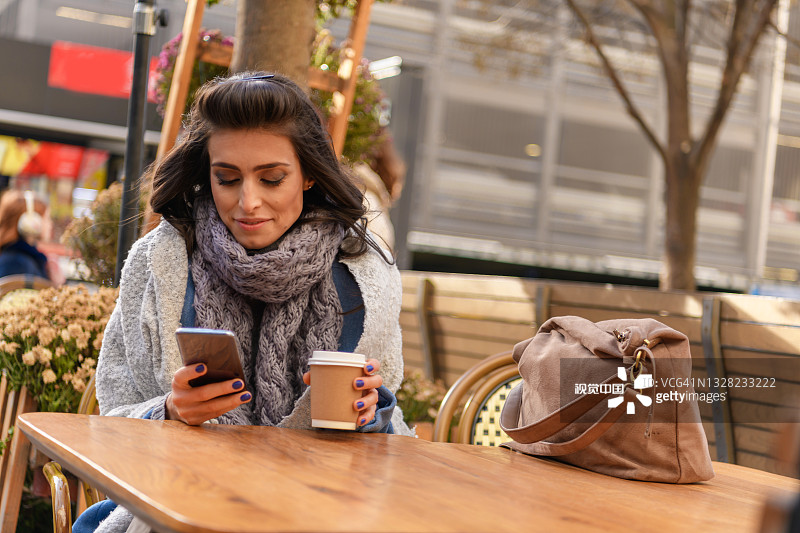no-phone: (287, 343, 386, 440)
reading: (163, 318, 259, 432)
